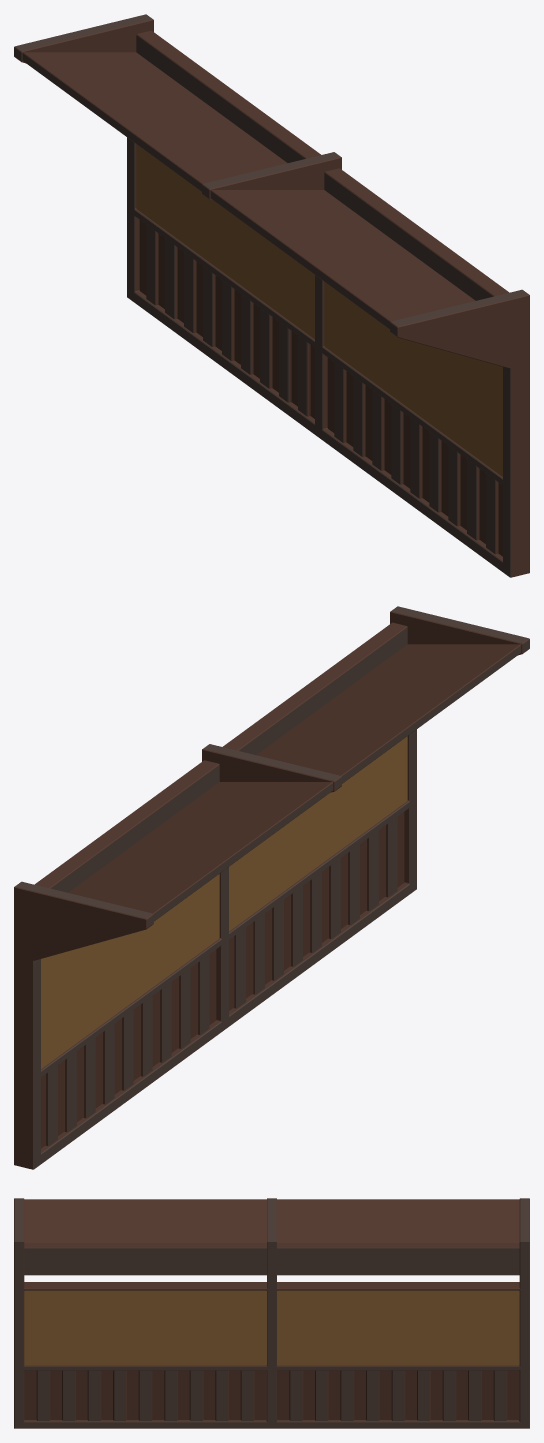
Rendered from 3D_exterior_station_stop_1 1.fbx.
3 renders of one model, top to bottom at view 1: azimuth 30°, elevation 25°; view 2: azimuth 150°, elevation 25°; view 3: azimuth 270°, elevation 25°, orthographic. The views are drawn at different scales.
Visible parts, largest first — view 1: Exterior Train Stop Bevel; view 2: Exterior Train Stop Bevel; view 3: Exterior Train Stop Bevel.
Part boxes in pixels (x1,y1,x2,y2): Exterior Train Stop Bevel: (14, 14, 529, 577); Exterior Train Stop Bevel: (14, 606, 529, 1169); Exterior Train Stop Bevel: (14, 1198, 529, 1428).
Bounding box in the file's own units: 2 × 4 × 10.
